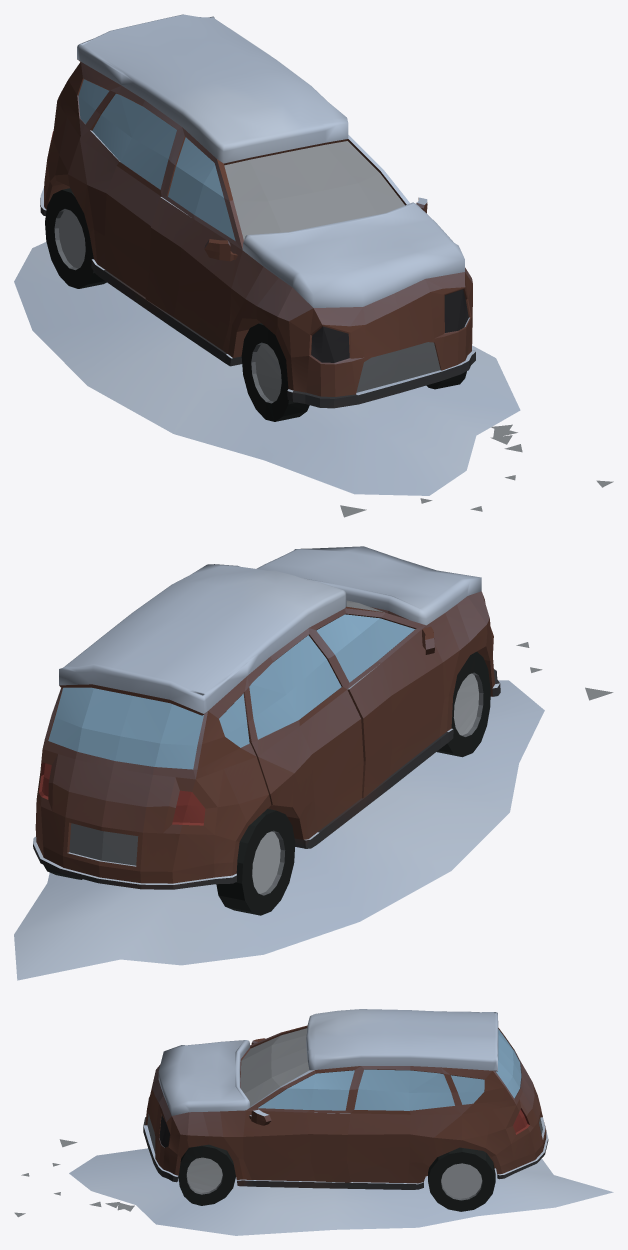
Rendered from suv_crashed.glb.
3 views of the same model, one above another, from view 1: azimuth 30°, elevation 25°; view 2: azimuth 150°, elevation 25°; view 3: azimuth 270°, elevation 25° (orthographic). The views are drawn at different scales.
Parts seen in each view (by area): view 1: Body, Glass; view 2: Body, Glass; view 3: Body, Glass.
Part boxes in pixels (bbox=[...]): Body: bbox=[14, 14, 613, 517]; Glass: bbox=[78, 79, 235, 240]; Body: bbox=[14, 546, 613, 980]; Glass: bbox=[48, 614, 415, 769]; Body: bbox=[14, 1009, 613, 1235]; Glass: bbox=[258, 1029, 521, 1110].
Bounding box in the file's own units: 2.92 × 1.98 × 6.77.
